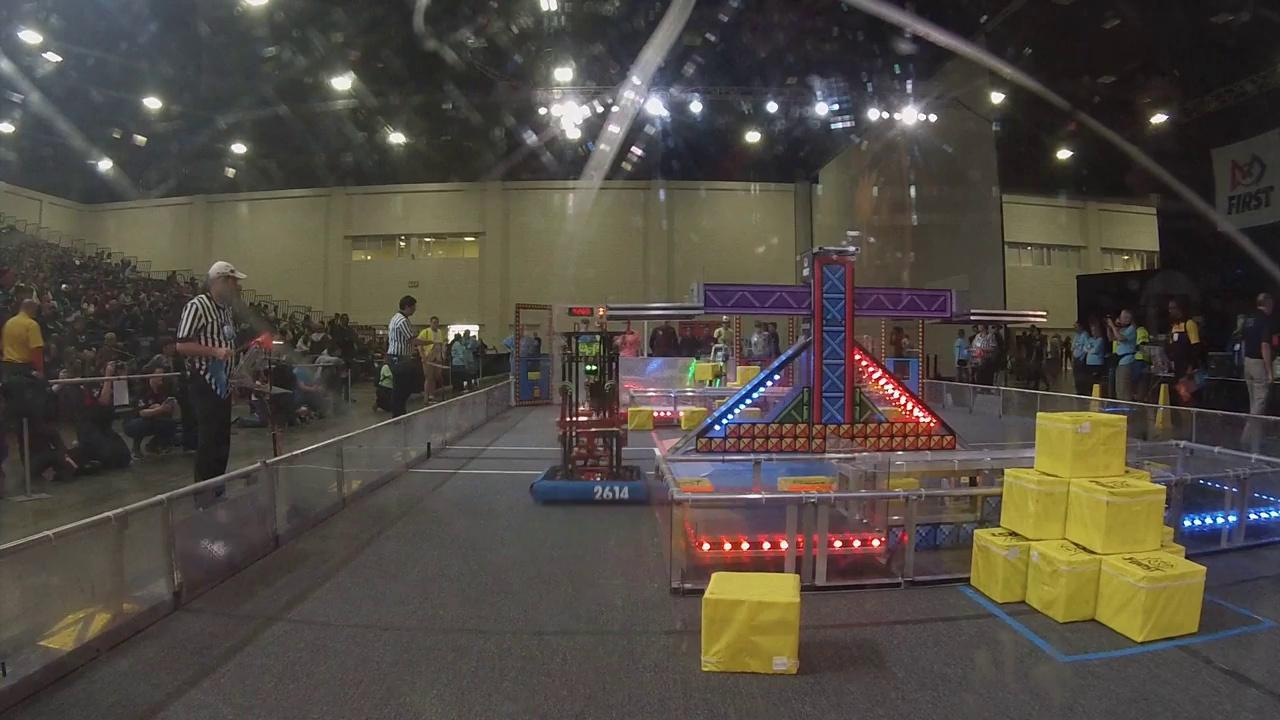robot: (527, 311, 653, 510)
